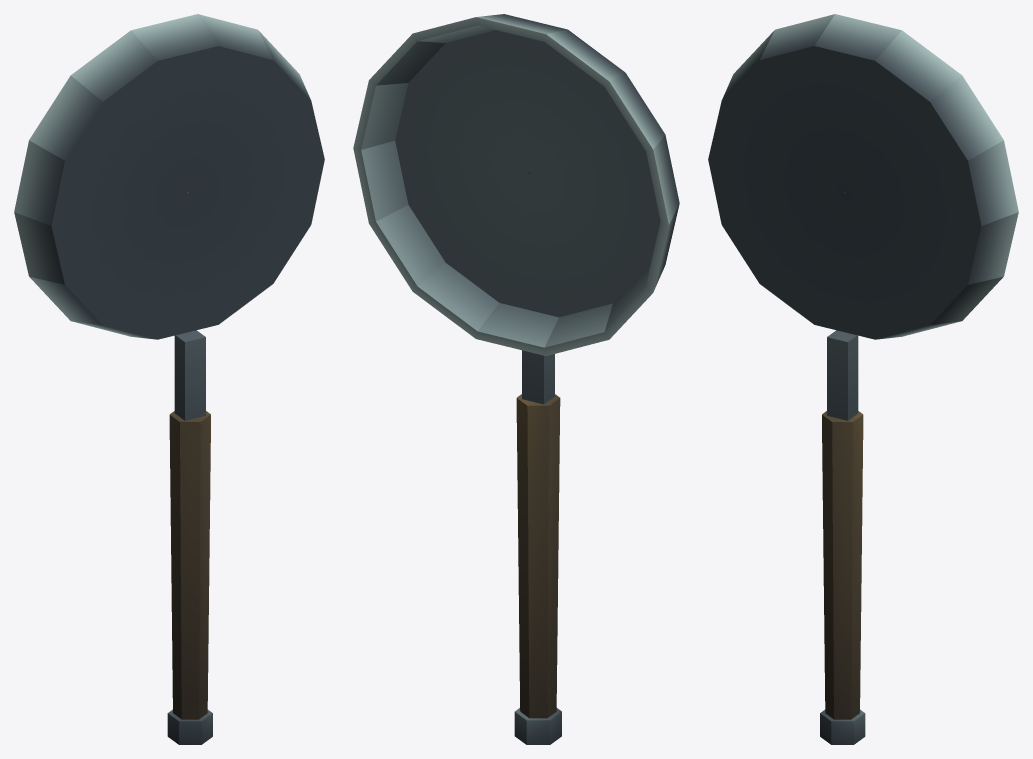
File: pan.fbx
The picture shows the model from 3 angles, left to right: view 1: azimuth 30°, elevation 25°; view 2: azimuth 150°, elevation 25°; view 3: azimuth 330°, elevation 25°; orthographic projection. The views are drawn at different scales.
Parts seen in each view (by area): view 1: pan; view 2: pan; view 3: pan.
Part boxes in pixels (left/top/right/bottom): pan: left=14, top=14, right=324, bottom=744; pan: left=353, top=14, right=679, bottom=744; pan: left=708, top=14, right=1018, bottom=744.
Size of the model in its own units: 40 by 88.5 by 8.6.
